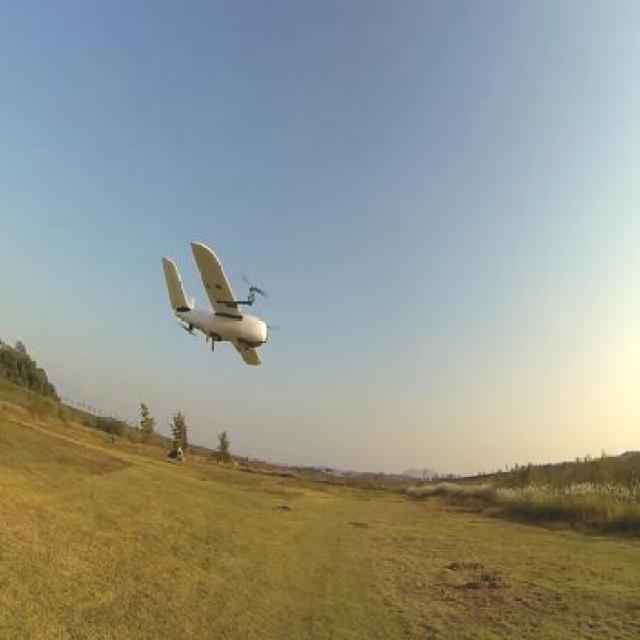iha: (146, 220, 290, 385)
